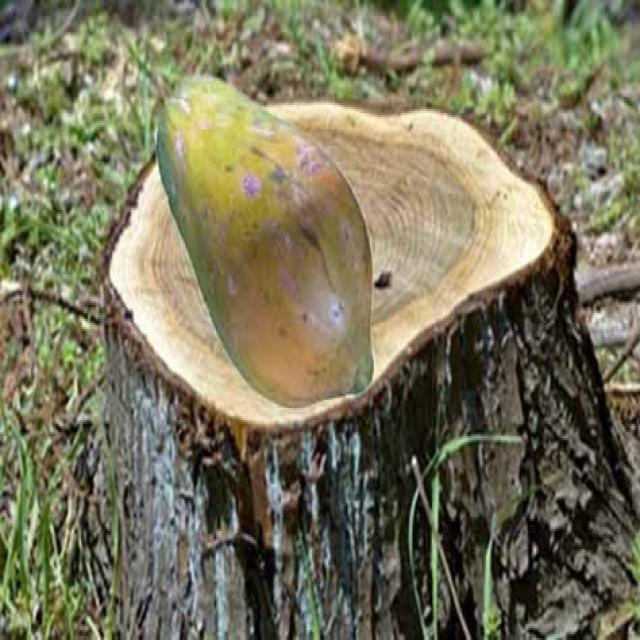Pepaya rippen: (157, 61, 375, 393)
